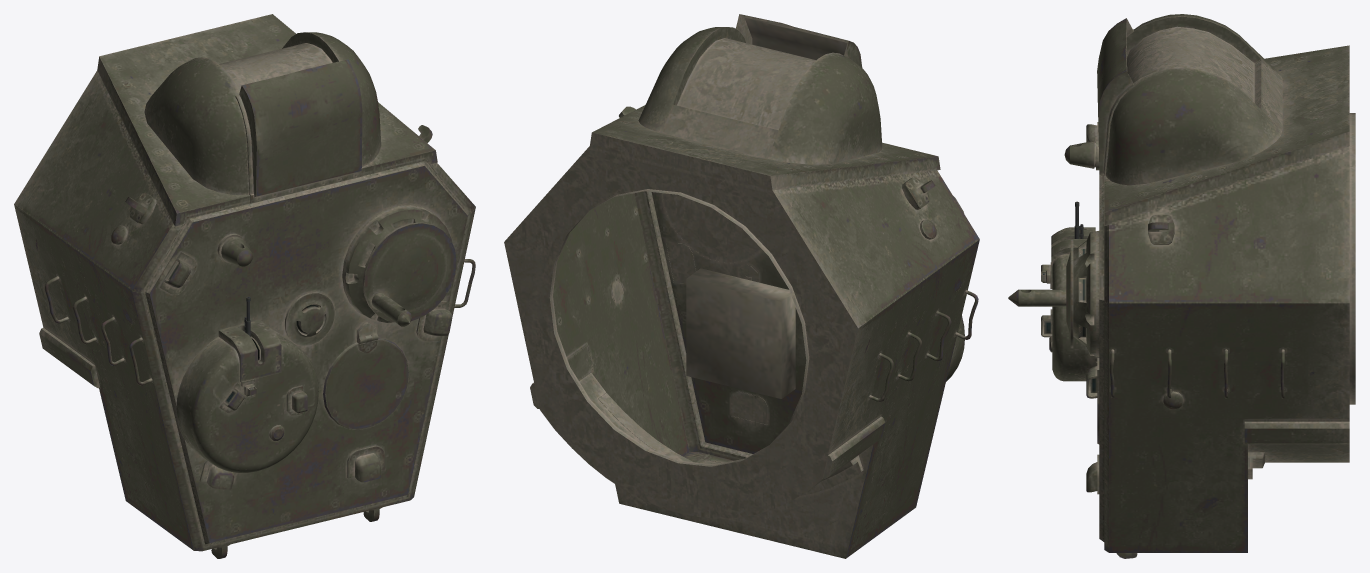
File: Turret_01.glb
The picture shows the model from 3 angles, left to right: view 1: azimuth 30°, elevation 25°; view 2: azimuth 150°, elevation 25°; view 3: azimuth 270°, elevation 25°; orthographic projection. The views are drawn at different scales.
Parts seen in each view (by area): view 1: set_0_group_0; view 2: set_0_group_0; view 3: set_0_group_0.
Part boxes in pixels (x1=…): set_0_group_0: x1=14, y1=14, x2=475, y2=558; set_0_group_0: x1=504, y1=14, x2=979, y2=558; set_0_group_0: x1=1008, y1=14, x2=1355, y2=558.
Size of the model in its own units: 2.7 by 3.48 by 2.3.
1 material, 1 textured.
